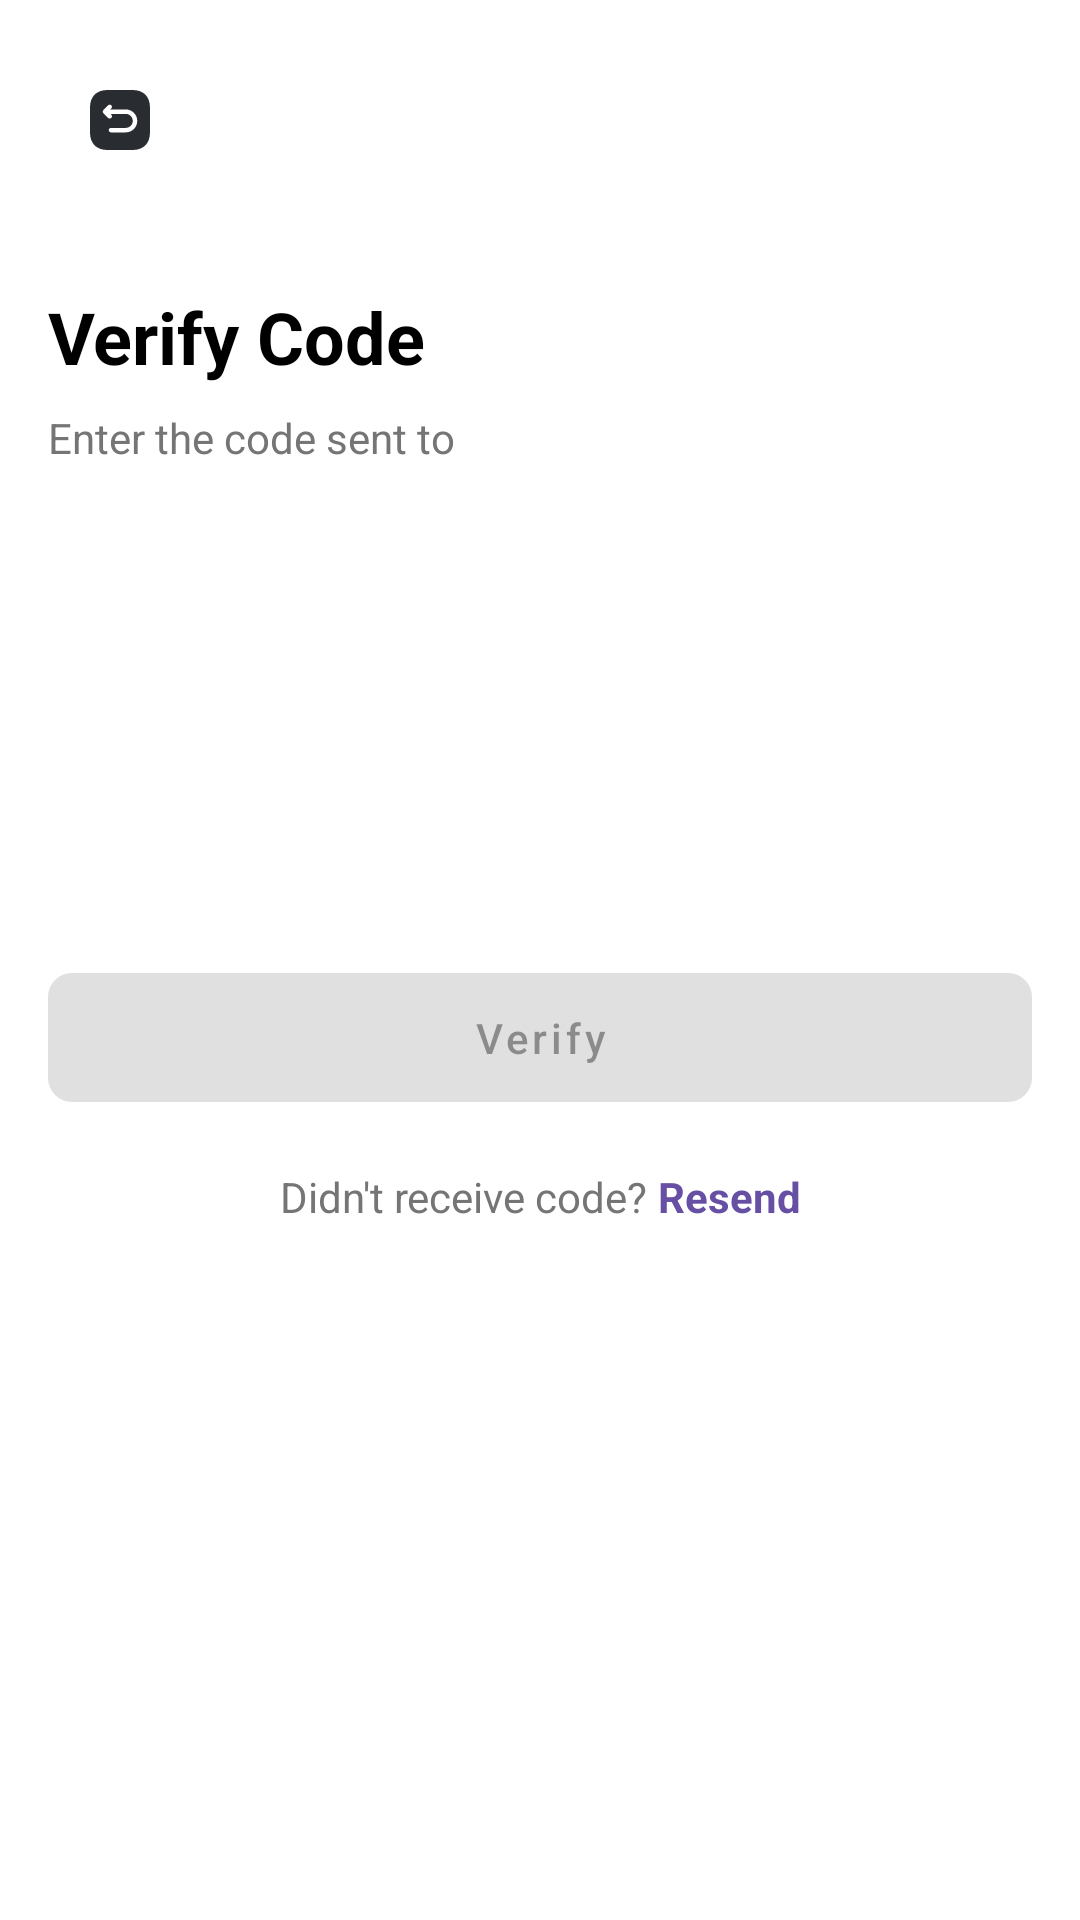

Named icons in this screenshot (1080px x 1920px) and their centers, (x,y):
back: (120,120)
